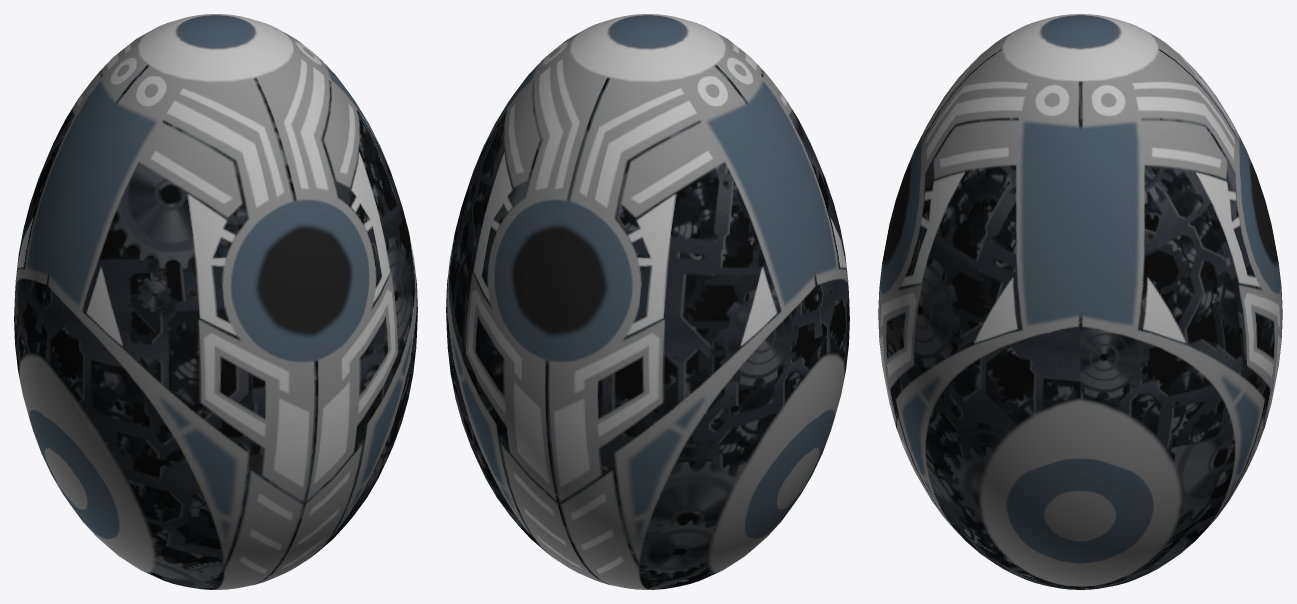
The model's file is seed.glb.
The picture shows the model from 3 angles, left to right: view 1: azimuth 30°, elevation 25°; view 2: azimuth 150°, elevation 25°; view 3: azimuth 270°, elevation 25°; orthographic projection.
Parts seen in each view (by area): view 1: Seed_lv4_geo_low; view 2: Seed_lv4_geo_low; view 3: Seed_lv4_geo_low.
Boxes of the visible parts, bbox=[...] form: Seed_lv4_geo_low: bbox=[14, 14, 417, 589]; Seed_lv4_geo_low: bbox=[446, 14, 849, 589]; Seed_lv4_geo_low: bbox=[878, 14, 1282, 589].
Bounding box in the file's own units: 1.95 × 2.94 × 1.95.
Materials: 1 (1 with a texture image).
